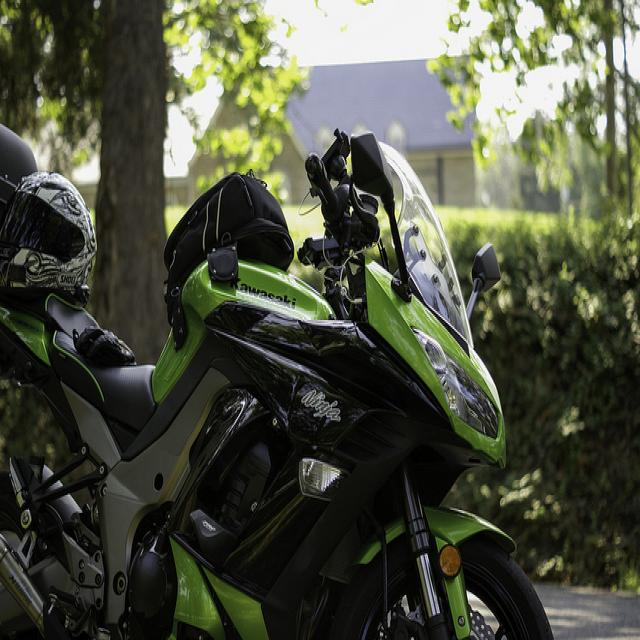motor: (0, 125, 557, 640)
